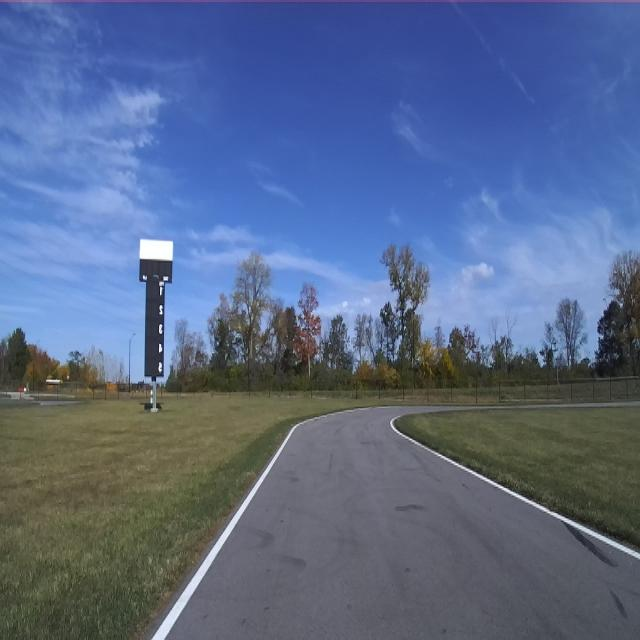white-line: (152, 407, 376, 639), (390, 416, 640, 560)
